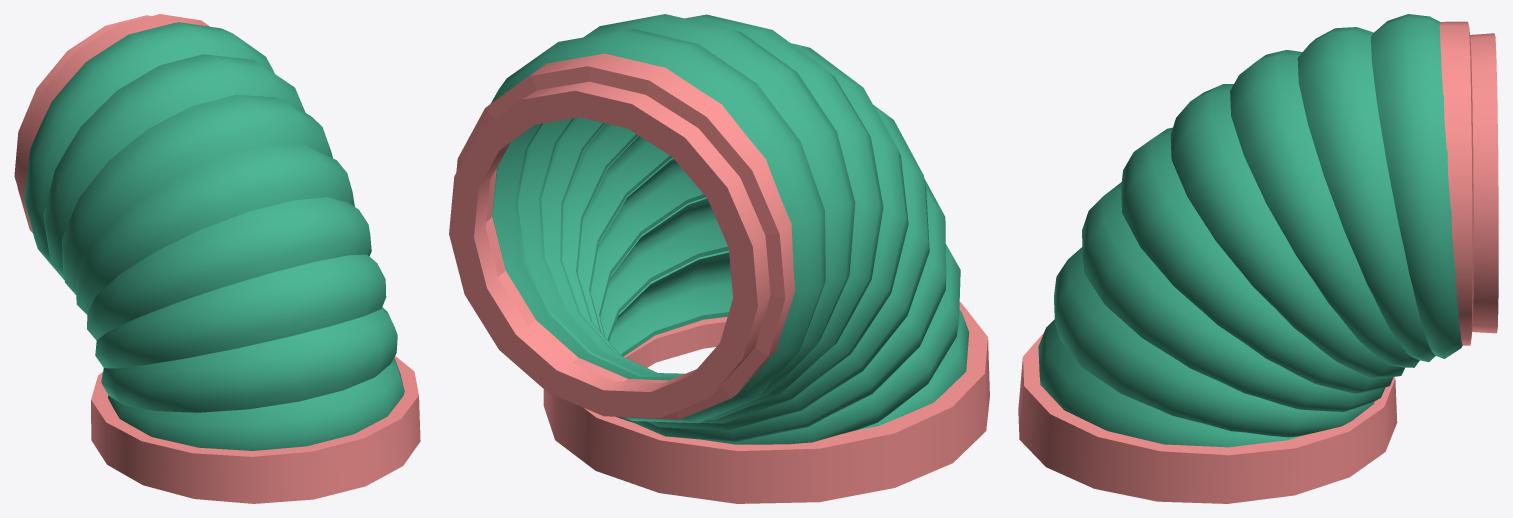
3 renders of one model, left to right at view 1: azimuth 30°, elevation 25°; view 2: azimuth 150°, elevation 25°; view 3: azimuth 270°, elevation 25°, orthographic. The views are drawn at different scales.
Visible parts, largest first — view 1: 90Tube; view 2: 90Tube; view 3: 90Tube.
Boxes of the visible parts, box(x1,y1,x2,y2) form: 90Tube: box(14, 14, 420, 503); 90Tube: box(449, 14, 989, 503); 90Tube: box(1018, 14, 1498, 503).
Size of the model in its own units: 51.55 by 58.46 by 65.2.
